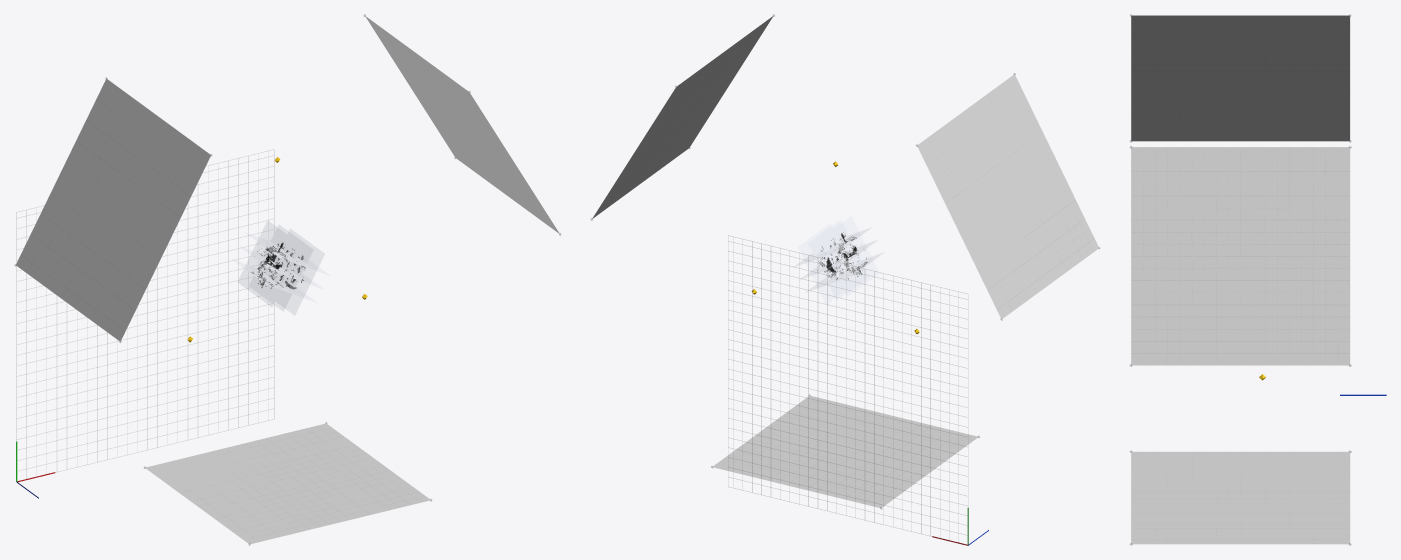
Rendered from faces_detailed_shards.obj.
The picture shows the model from 3 angles, left to right: view 1: azimuth 30°, elevation 25°; view 2: azimuth 150°, elevation 25°; view 3: azimuth 270°, elevation 25°; orthographic projection. The views are drawn at different scales.
Parts seen in each view (by area): view 1: wall_C, wall_A, wall_B, grid_floor, panel_F0p2, panel_F0p1, panel_F0p0, grid_wallA, grid_wallC; view 2: wall_C, wall_A, wall_B, grid_floor, panel_F0p2, panel_F0p1, panel_F0p0; view 3: wall_B, wall_C, wall_A, grid_wallB.
Part boxes in pixels (left/top/right/bottom): wall_C: left=16, top=79, right=210, bottom=341; wall_A: left=145, top=423, right=429, bottom=543; wall_B: left=365, top=16, right=559, bottom=233; grid_floor: left=16, top=149, right=274, bottom=478; panel_F0p2: left=238, top=221, right=301, bottom=306; panel_F0p1: left=250, top=225, right=312, bottom=310; panel_F0p0: left=276, top=229, right=324, bottom=314; grid_wallA: left=177, top=424, right=427, bottom=540; grid_wallC: left=17, top=80, right=192, bottom=337; wall_C: left=917, top=74, right=1098, bottom=318; wall_A: left=713, top=396, right=977, bottom=507; wall_B: left=592, top=16, right=773, bottom=218; grid_floor: left=728, top=235, right=968, bottom=536; panel_F0p2: left=819, top=216, right=878, bottom=296; panel_F0p1: left=809, top=220, right=867, bottom=299; panel_F0p0: left=798, top=224, right=843, bottom=303; wall_B: left=1131, top=147, right=1349, bottom=365; wall_C: left=1131, top=15, right=1349, bottom=141; wall_A: left=1131, top=452, right=1349, bottom=544; grid_wallB: left=1131, top=147, right=1349, bottom=365.
Bounding box in the file's own units: 4394 × 3809 × 2115.
